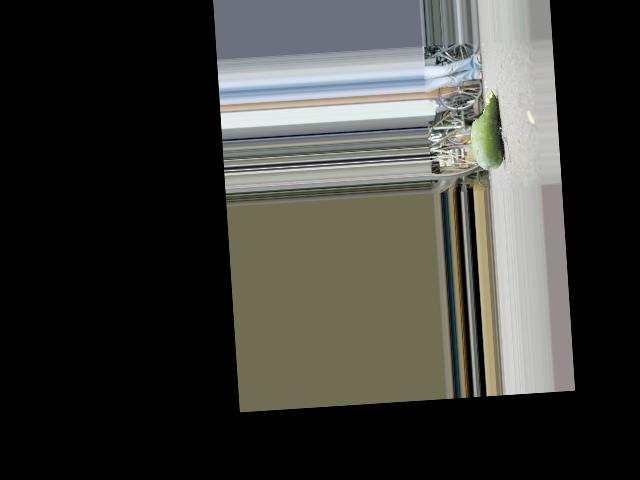cucumber: (468, 88, 504, 170)
